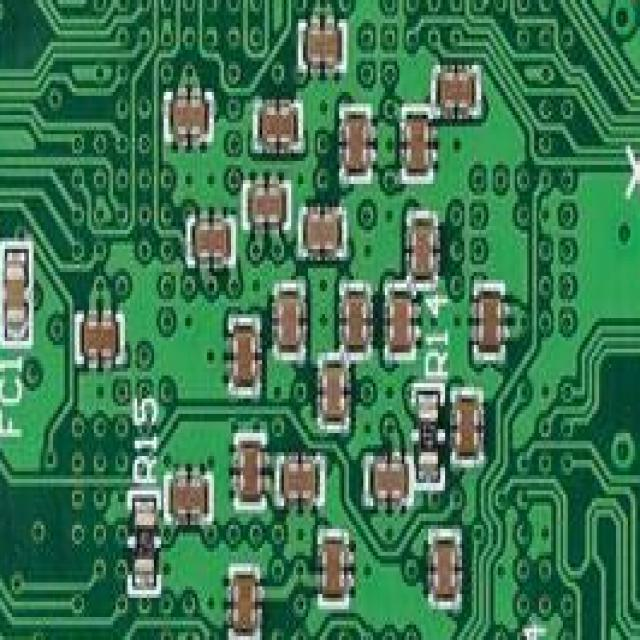capacitor: (0, 237, 31, 345)
resistor: (127, 487, 159, 594), (414, 380, 435, 494)
unknown: (226, 555, 262, 640), (226, 314, 262, 395), (270, 276, 306, 356), (294, 199, 346, 253), (431, 65, 478, 123), (339, 100, 373, 180), (274, 452, 328, 502), (313, 356, 349, 429), (72, 310, 123, 360), (452, 391, 484, 467), (164, 88, 209, 142), (474, 280, 505, 356), (382, 284, 414, 356), (402, 104, 433, 176), (428, 533, 462, 598), (404, 215, 433, 291), (339, 284, 373, 348), (186, 214, 233, 260), (298, 19, 344, 65), (364, 460, 412, 502), (166, 476, 212, 518), (248, 176, 289, 222), (318, 552, 347, 617), (255, 104, 298, 146), (238, 433, 262, 506)
